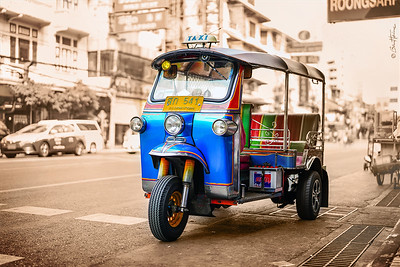threewheel: (129, 34, 329, 242)
